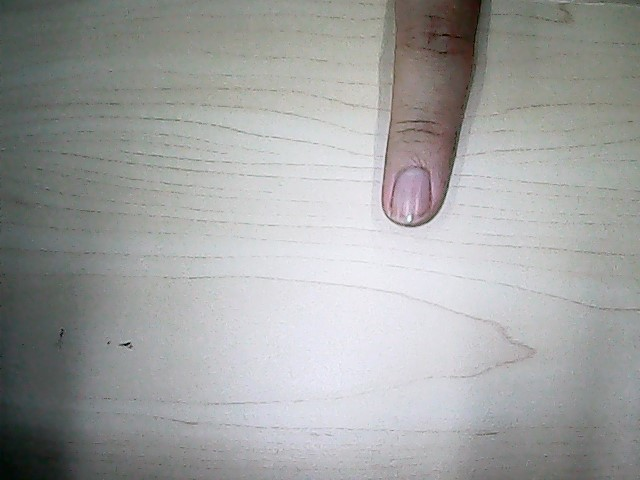nail: (391, 173, 431, 220)
